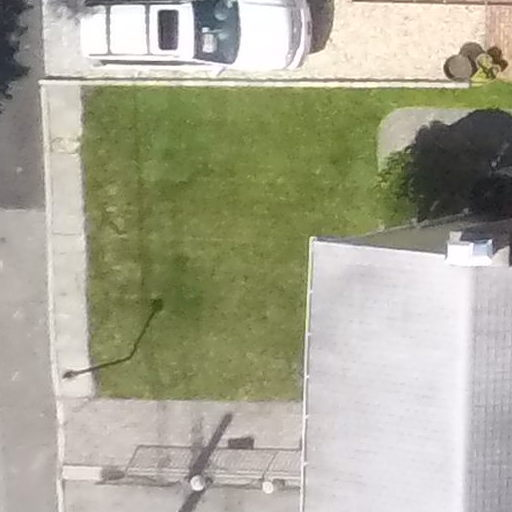car: (65, 1, 347, 90)
container: (440, 50, 479, 86), (472, 50, 496, 72), (483, 59, 503, 84)
